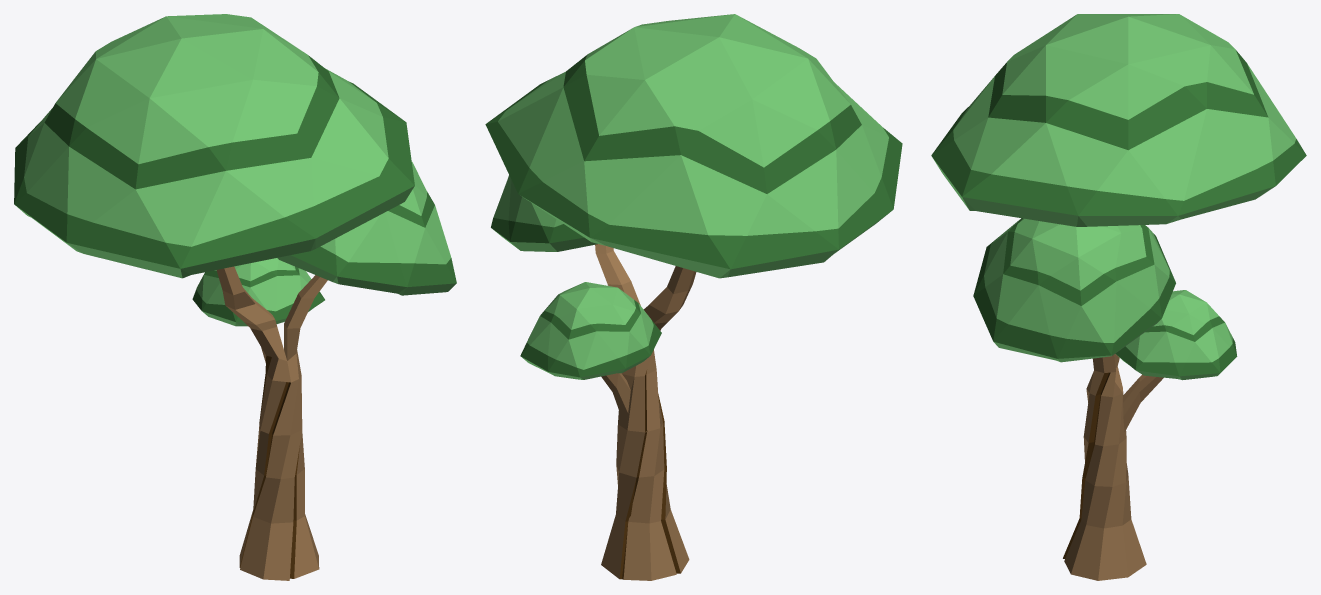
File: tree01.fbx
The picture shows the model from 3 angles, left to right: view 1: azimuth 30°, elevation 25°; view 2: azimuth 150°, elevation 25°; view 3: azimuth 270°, elevation 25°; orthographic projection. The views are drawn at different scales.
Parts seen in each view (by area): view 1: Icosphere.002, Cylinder, Icosphere, Icosphere.004; view 2: Icosphere.002, Cylinder, Icosphere.004, Icosphere; view 3: Icosphere.002, Icosphere, Cylinder, Icosphere.004.
Part boxes in pixels (box(x1,y1,x2,y2)): Icosphere.002: box(14, 14, 414, 278); Cylinder: box(216, 266, 327, 580); Icosphere: box(277, 162, 456, 295); Icosphere.004: box(192, 258, 324, 326); Icosphere.002: box(485, 14, 902, 278); Cylinder: box(595, 244, 696, 580); Icosphere.004: box(520, 282, 661, 379); Icosphere: box(491, 175, 597, 251); Icosphere.002: box(931, 14, 1306, 226); Icosphere: box(973, 218, 1175, 362); Cylinder: box(1063, 354, 1163, 580); Icosphere.004: box(1115, 290, 1237, 380).
Bounding box in the file's own units: 1586 × 2183 × 1463.
